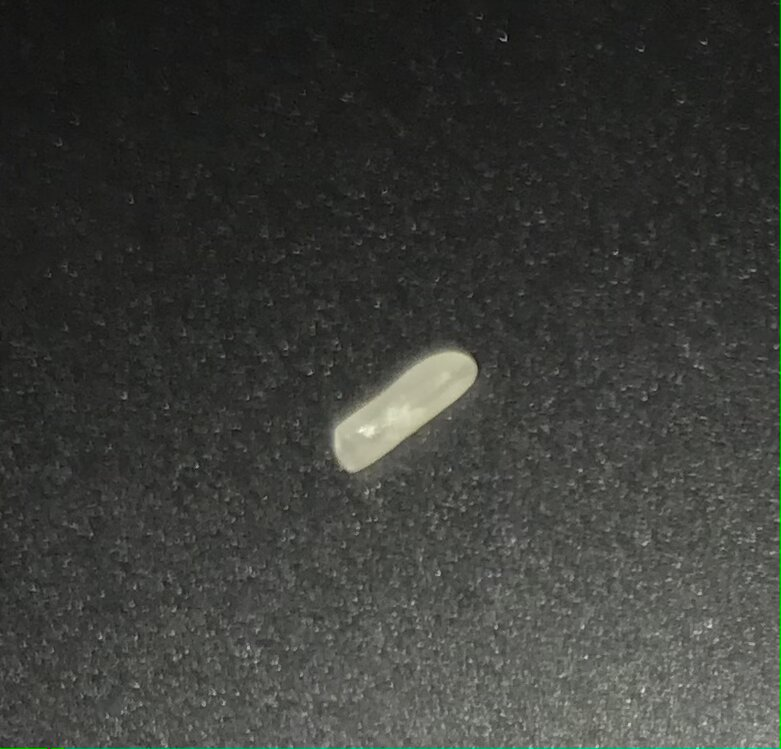Gao Long Lai: (327, 348, 479, 482)
